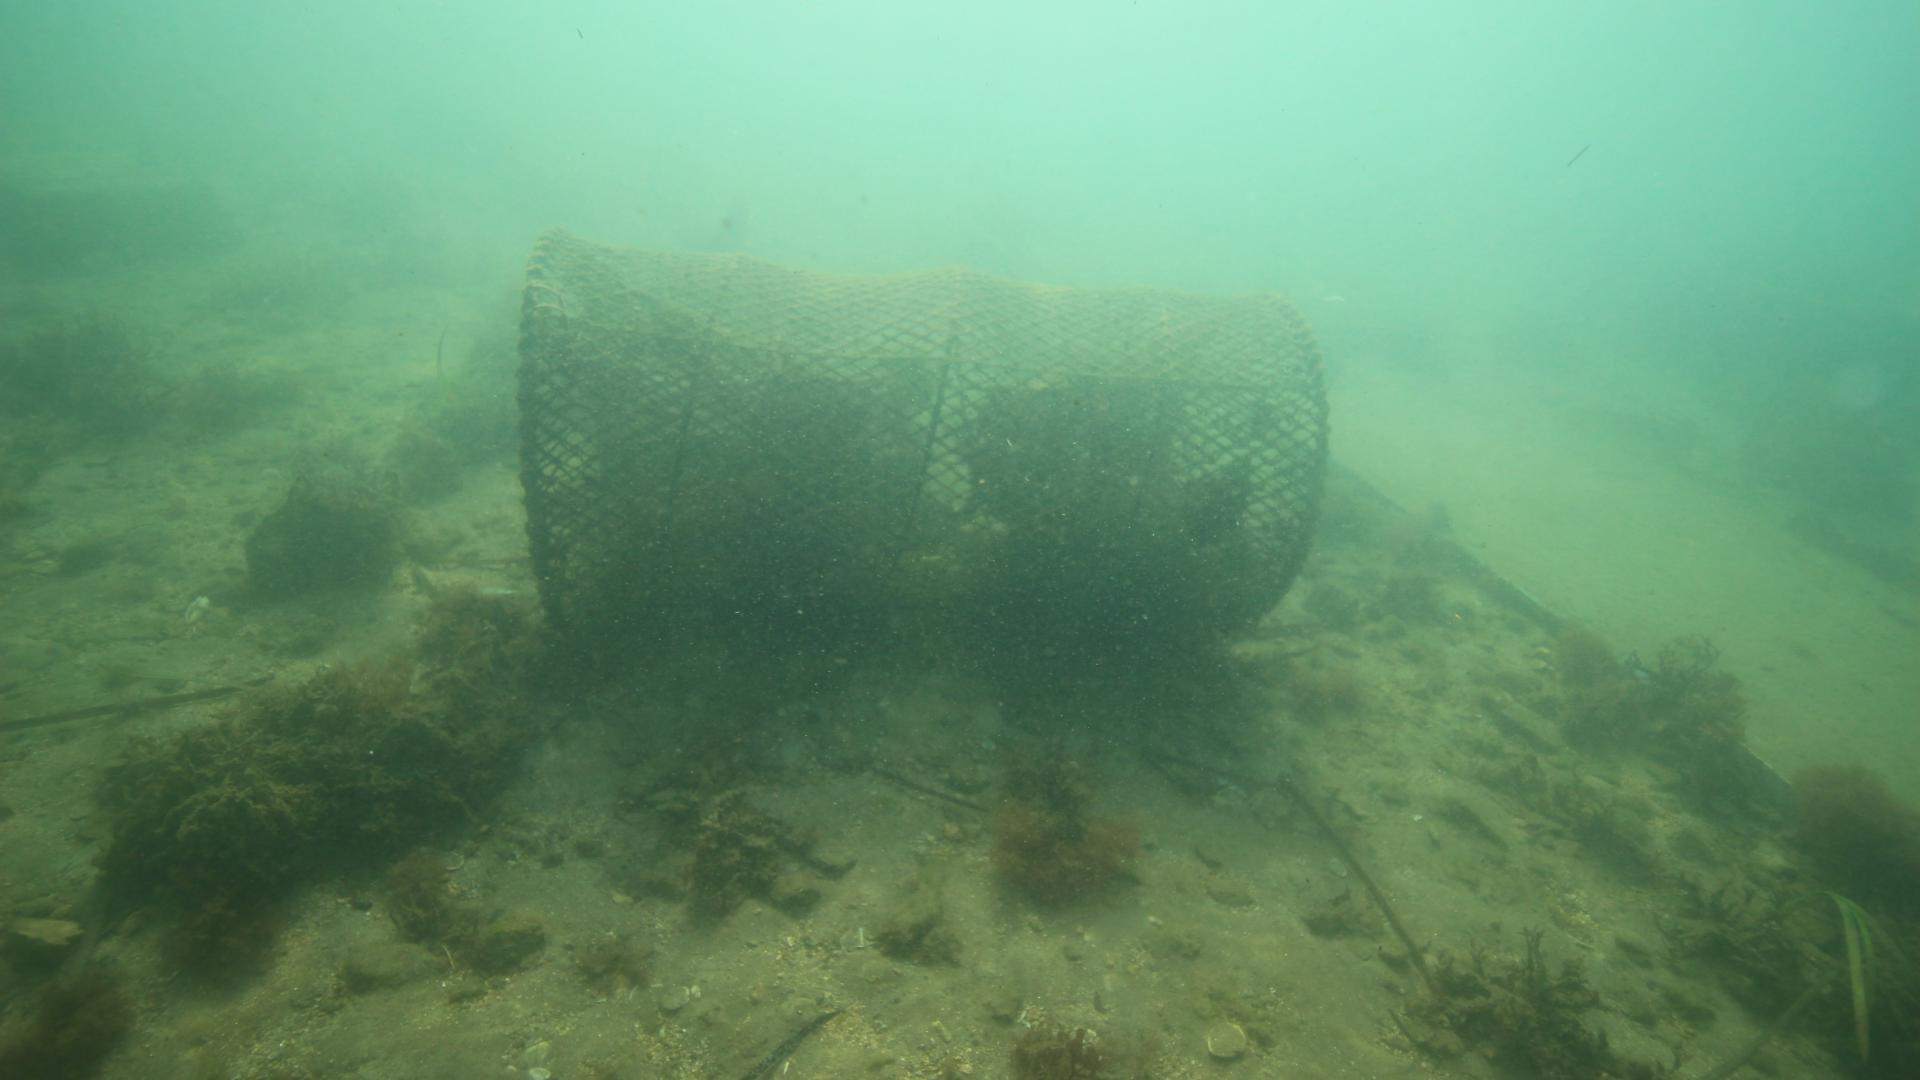spring fish trap: (513, 225, 1331, 630)
